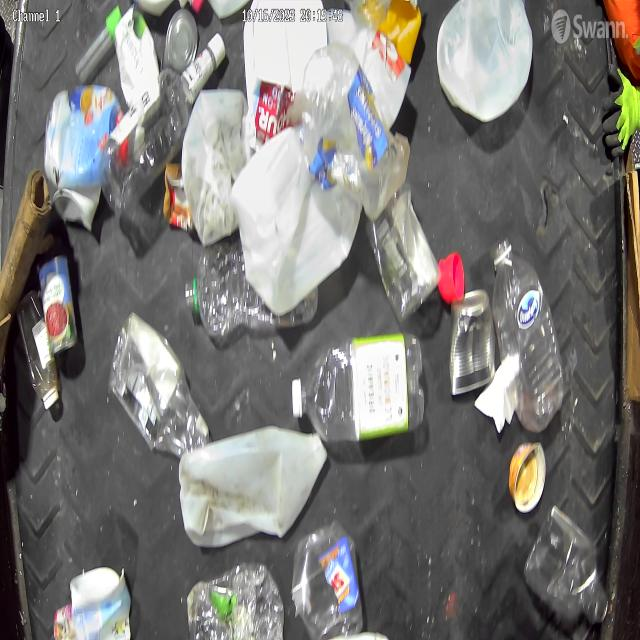can: (371, 193, 440, 322), (444, 280, 503, 398), (37, 252, 84, 359), (499, 440, 546, 514), (160, 6, 202, 73)
milk_jug: (234, 120, 370, 312), (180, 426, 332, 545), (434, 0, 539, 124)
plastic_bottle: (100, 32, 227, 214), (288, 334, 426, 446), (491, 233, 566, 438), (184, 248, 321, 338), (44, 85, 132, 209), (182, 559, 290, 640)
